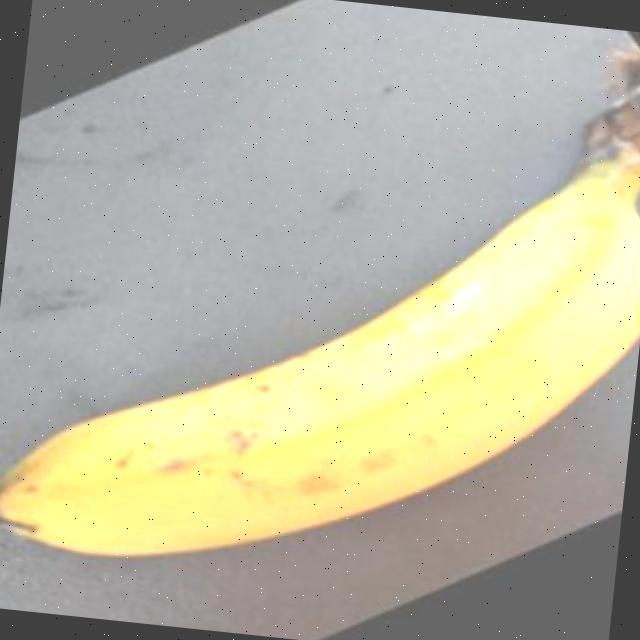Ripe: (0, 12, 640, 624)
